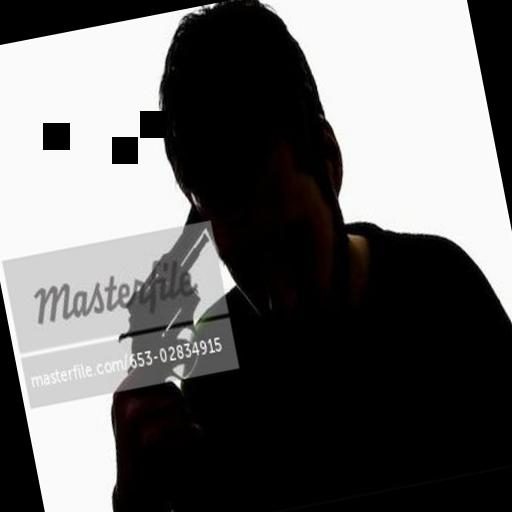Handgun: (87, 188, 250, 422)
